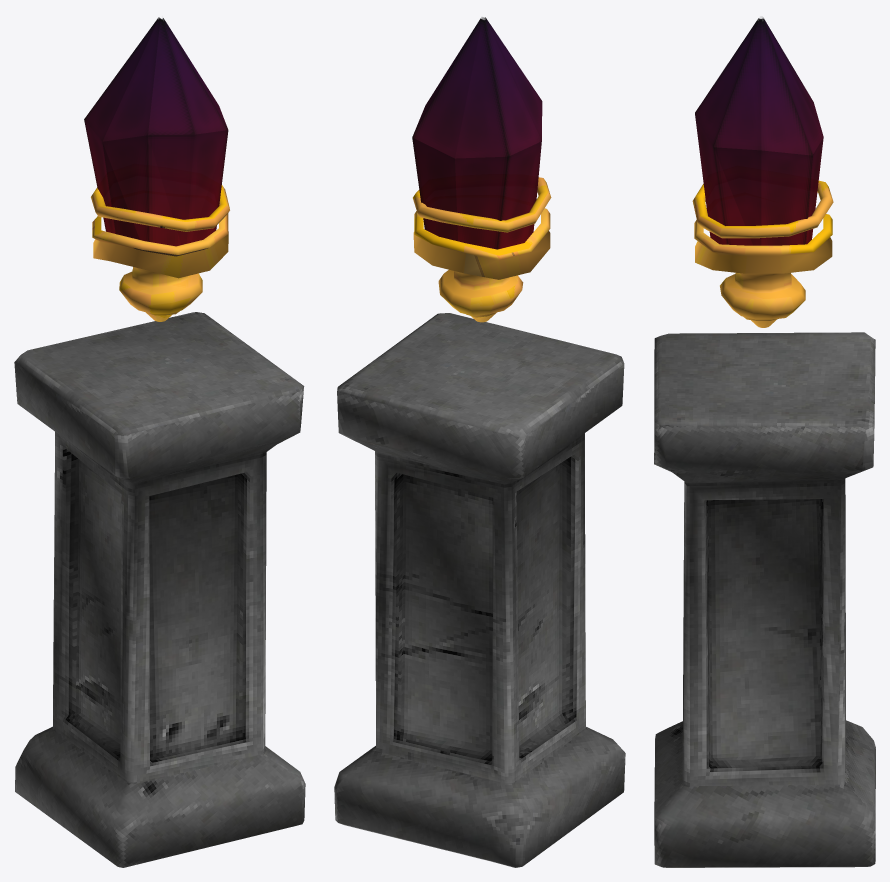
The model's file is pedestal.gltf.
3 renders of one model, left to right at view 1: azimuth 30°, elevation 25°; view 2: azimuth 150°, elevation 25°; view 3: azimuth 270°, elevation 25°, orthographic.
Visible parts, largest first — view 1: Pillar_lp_polypen_Pillar_hp_polypen002, Cube.001, Torus; view 2: Pillar_lp_polypen_Pillar_hp_polypen002, Cube.001, Torus; view 3: Pillar_lp_polypen_Pillar_hp_polypen002, Cube.001, Torus.
Part boxes in pixels (left/top/right/bottom): Pillar_lp_polypen_Pillar_hp_polypen002: left=14, top=312, right=305, bottom=867; Cube.001: left=84, top=17, right=228, bottom=246; Torus: left=91, top=185, right=229, bottom=321; Pillar_lp_polypen_Pillar_hp_polypen002: left=334, top=313, right=625, bottom=867; Cube.001: left=412, top=17, right=542, bottom=249; Torus: left=413, top=177, right=551, bottom=322; Pillar_lp_polypen_Pillar_hp_polypen002: left=654, top=332, right=875, bottom=867; Cube.001: left=695, top=17, right=823, bottom=245; Torus: left=692, top=180, right=833, bottom=327.
Size of the model in its own units: 3.18 by 12.83 by 3.18.
Materials: 3 (3 with a texture image).
